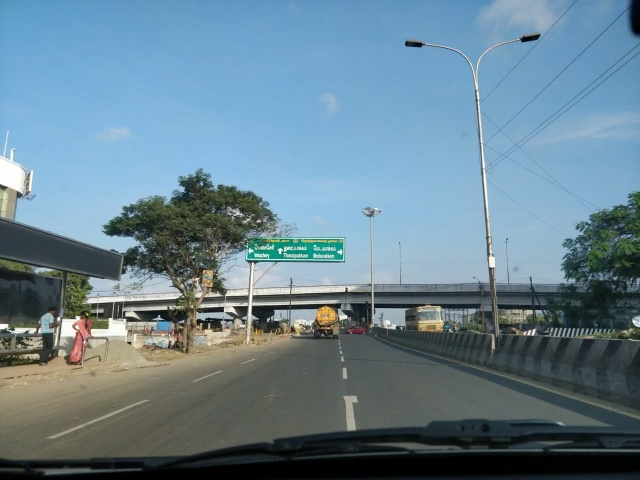bus: (401, 299, 445, 336)
car: (346, 323, 367, 336)
person: (36, 305, 60, 364), (71, 310, 92, 367)
truck: (311, 308, 343, 342)
